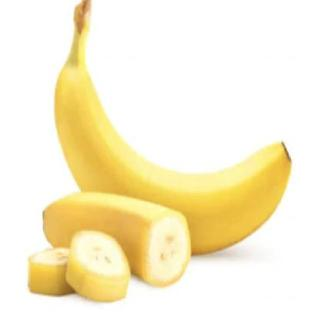banana: (53, 62, 295, 265), (40, 187, 193, 289)
